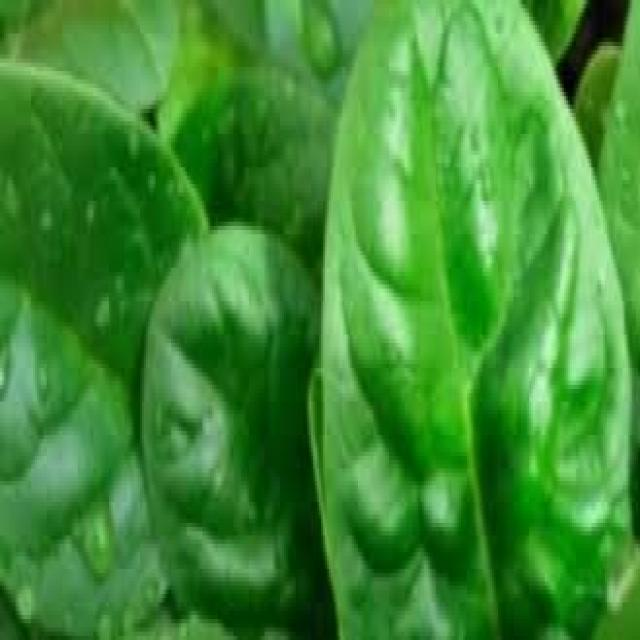organic waste: (307, 0, 638, 636), (0, 58, 206, 636), (138, 222, 339, 636), (169, 58, 337, 272), (572, 13, 638, 343), (0, 0, 173, 105)
